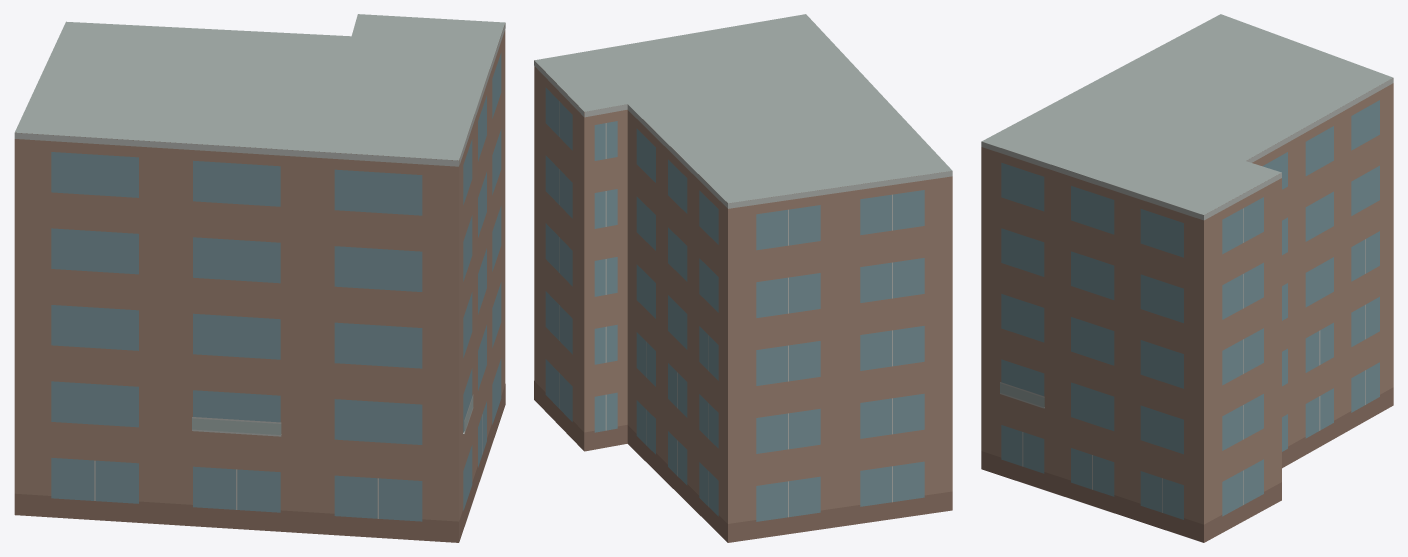
The model's file is survey-upis-32688809.glb.
The picture shows the model from 3 angles, left to right: view 1: azimuth 30°, elevation 25°; view 2: azimuth 150°, elevation 25°; view 3: azimuth 270°, elevation 25°; orthographic projection. The views are drawn at different scales.
Visible parts, largest first — view 1: survey-upis-32688809.tmp; view 2: survey-upis-32688809.tmp; view 3: survey-upis-32688809.tmp.
Boxes of the visible parts, bbox=[...] form: survey-upis-32688809.tmp: bbox=[14, 14, 505, 542]; survey-upis-32688809.tmp: bbox=[534, 14, 952, 542]; survey-upis-32688809.tmp: bbox=[981, 14, 1393, 542].
Bounding box in the file's own units: 19.76 × 15 × 17.11.
